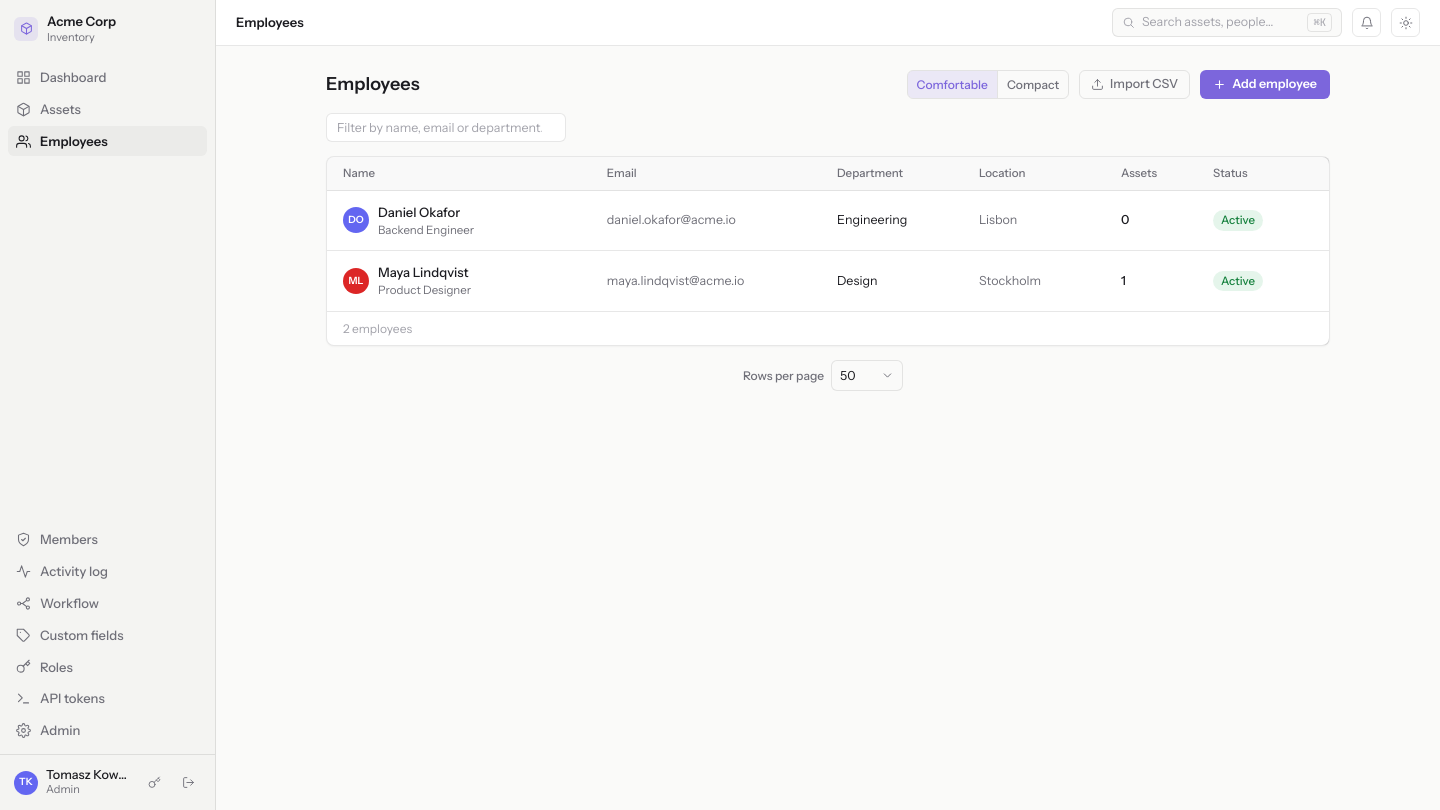
employee list › can invite the new person as a member in the same breath
Check: the text "Maya Lindqvist" is shown, box left=378, top=263, right=471, bottom=282
Click the button "Add employee" at (1265, 84), box left=1200, top=70, right=1330, bottom=99
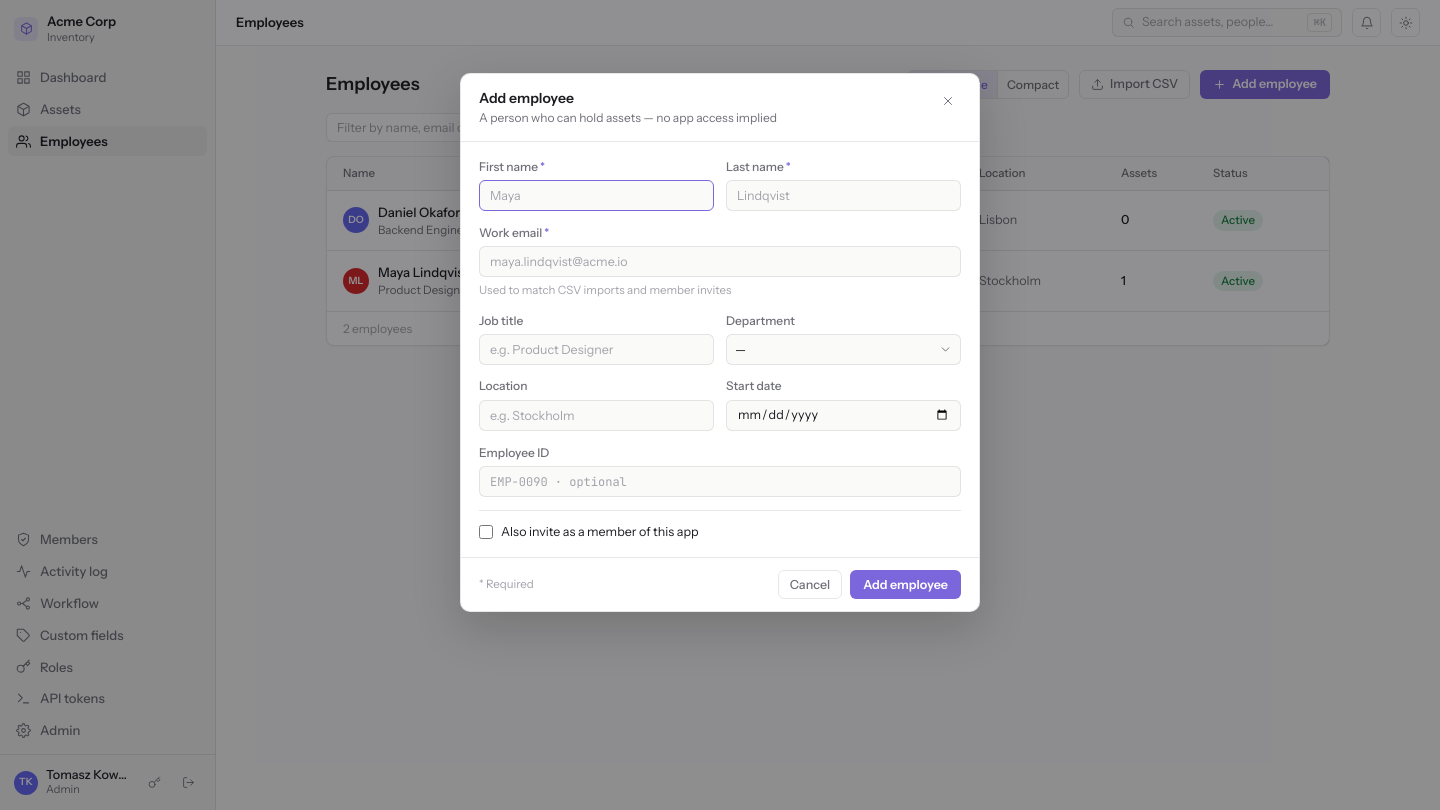
Type "Sofia" into the field labelled "First name" at (596, 196), box left=479, top=180, right=714, bottom=211
Type "Reyes" into the field labelled "Last name" at (844, 196), box left=726, top=180, right=961, bottom=211
Type "sofia@acme.io" into the field labelled "Work email" at (720, 262), box left=479, top=246, right=961, bottom=277
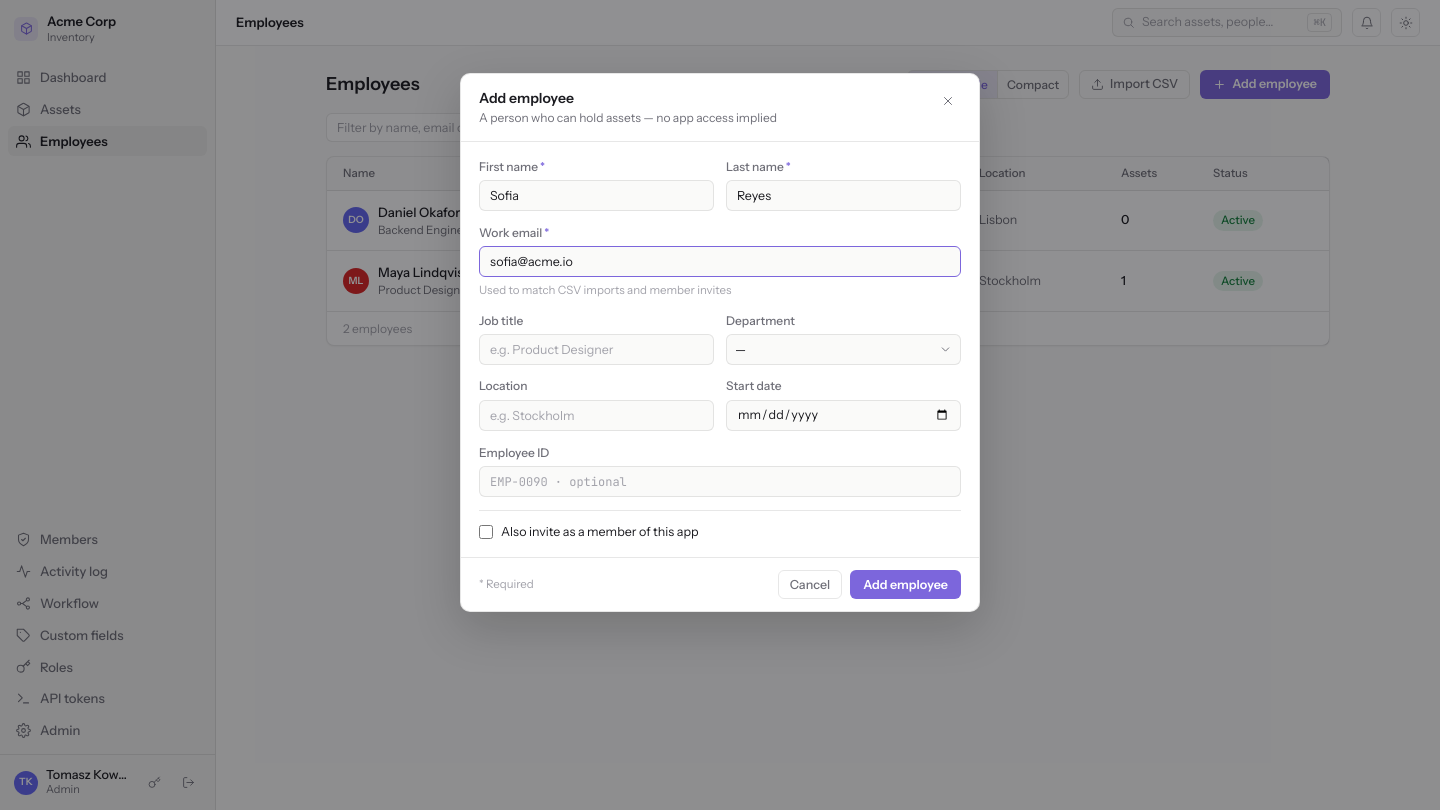
Click the checkbox labelled "Also invite as a member of this app" at (486, 532), box left=479, top=525, right=493, bottom=539
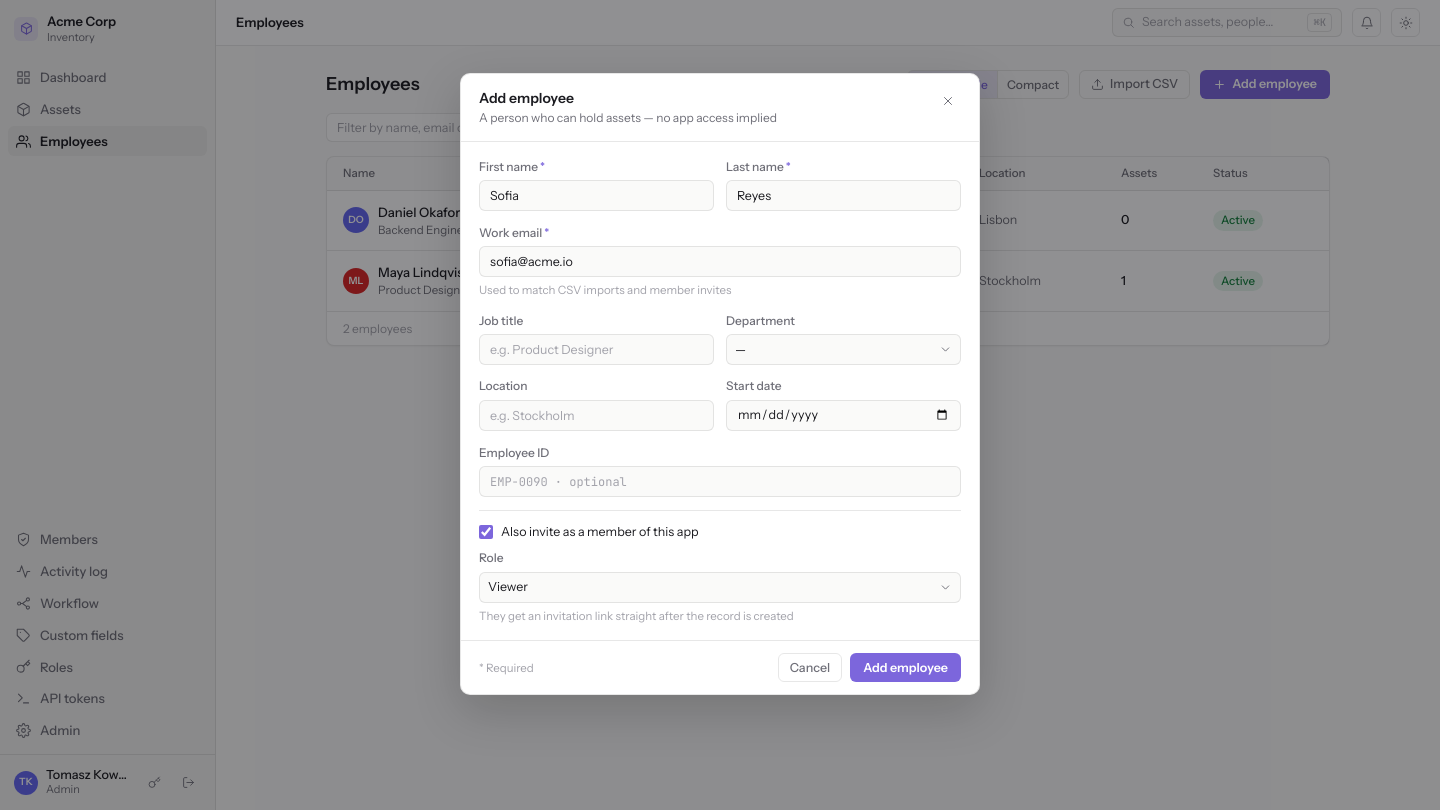
Click the dropdown named "role" at (508, 587), box left=479, top=572, right=961, bottom=603
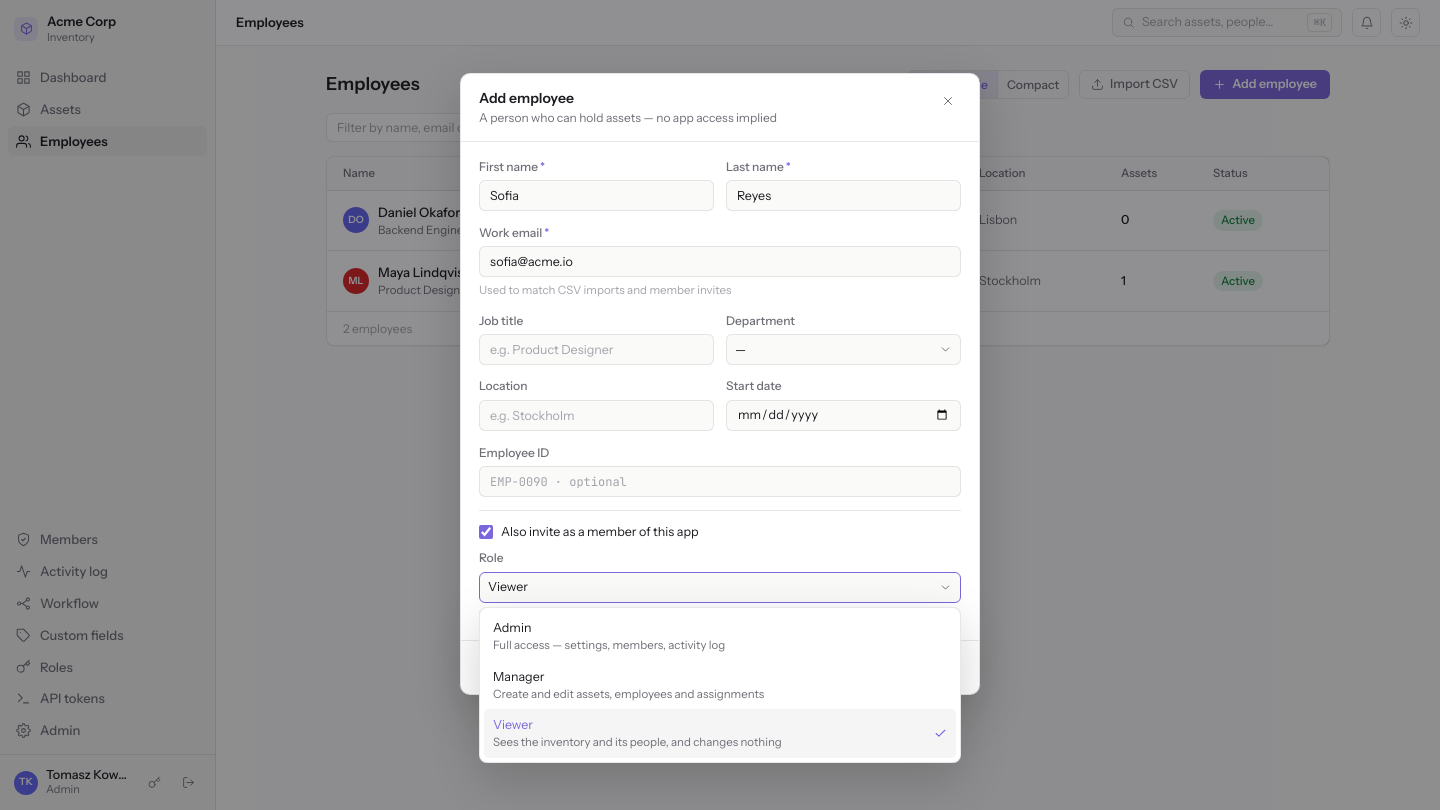
Click the option "Manager Create and edit assets, employees and assignments" at (629, 685), box left=493, top=668, right=764, bottom=701
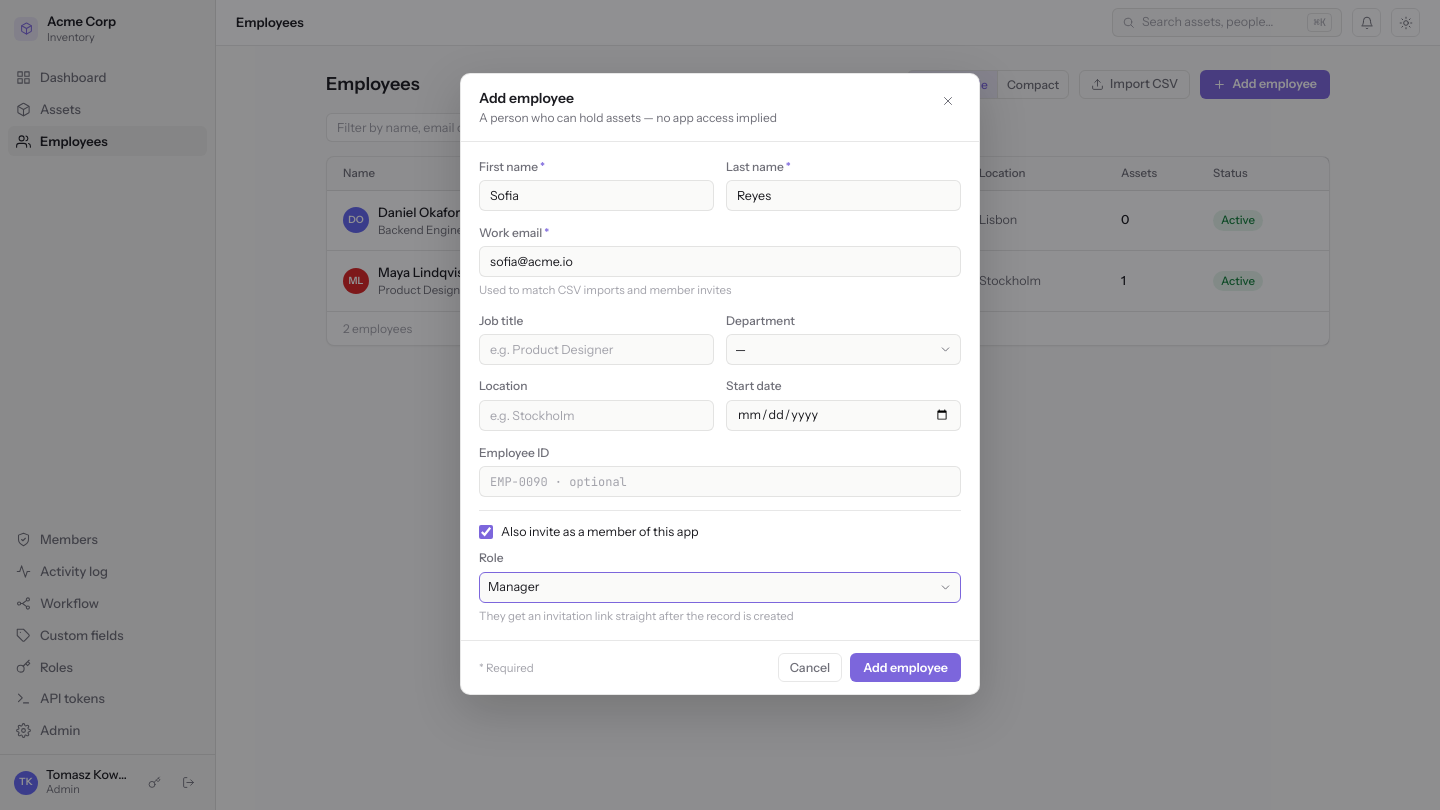
Click the button "Add employee" at (906, 668), box left=850, top=653, right=961, bottom=682
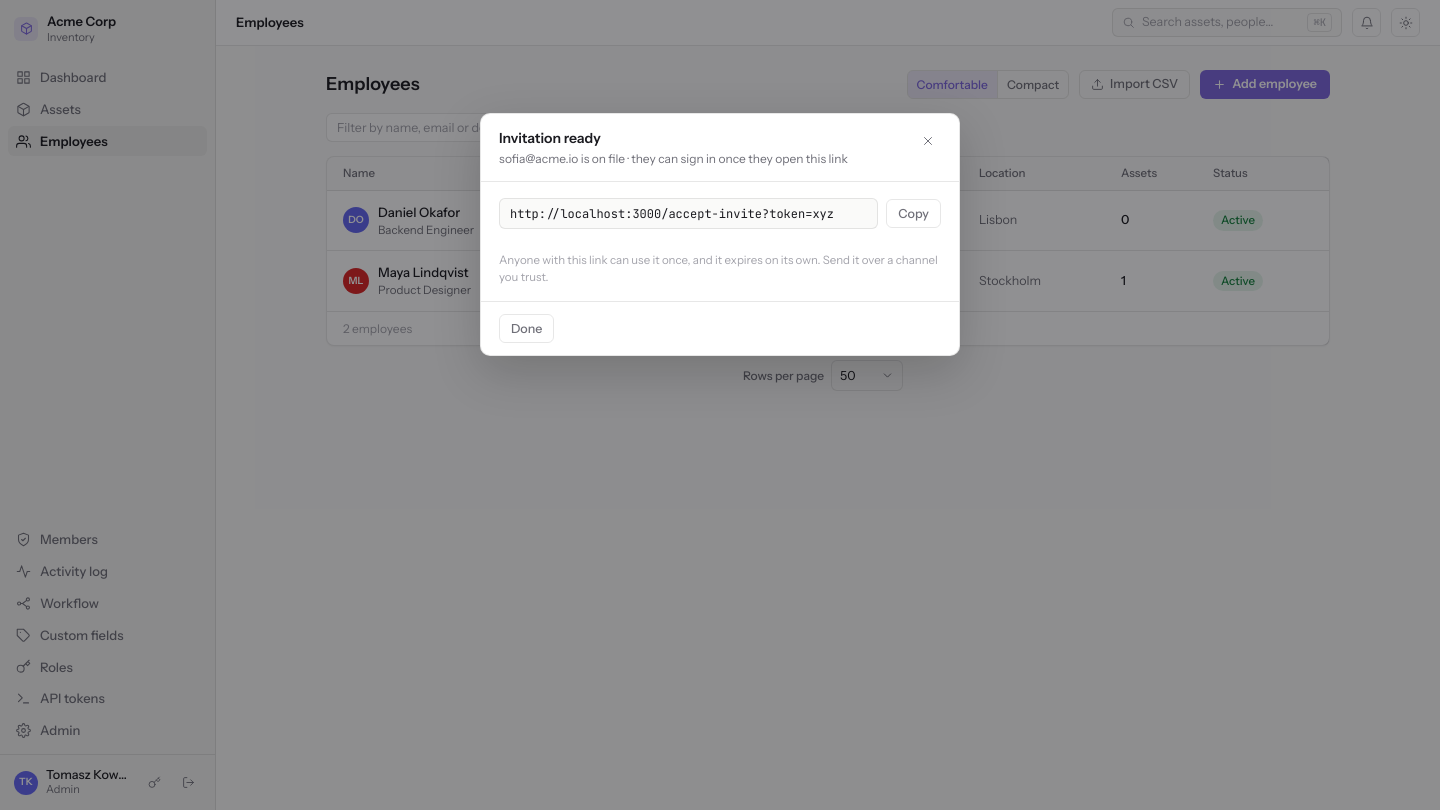
Check: the field named "Invitation link" holds "http://localhost:3000/accept-invite?token=xyz", box left=499, top=198, right=878, bottom=229
